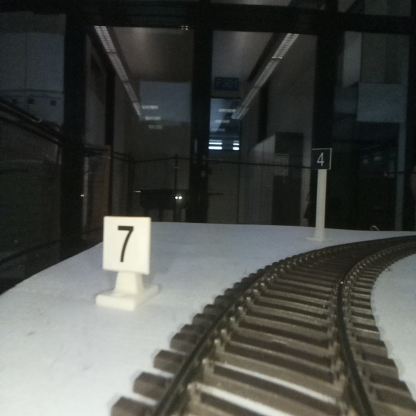black-info-4: (312, 148, 330, 241)
white-stop-7: (103, 216, 150, 303)
